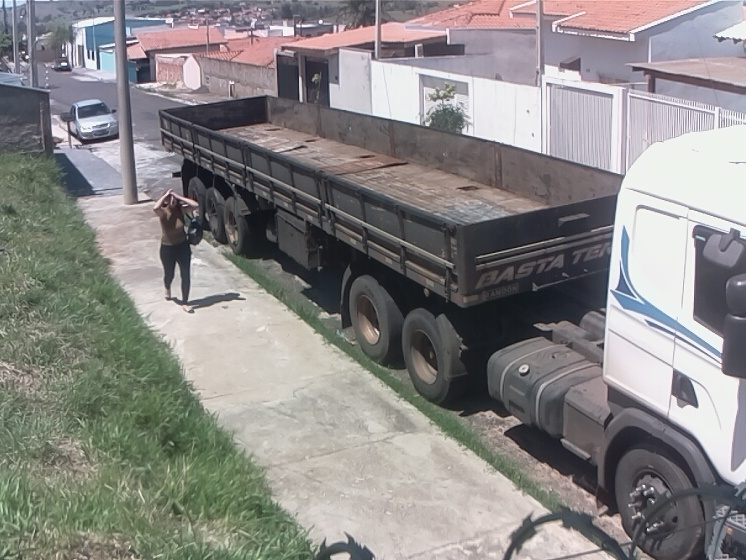person: (150, 187, 205, 318)
